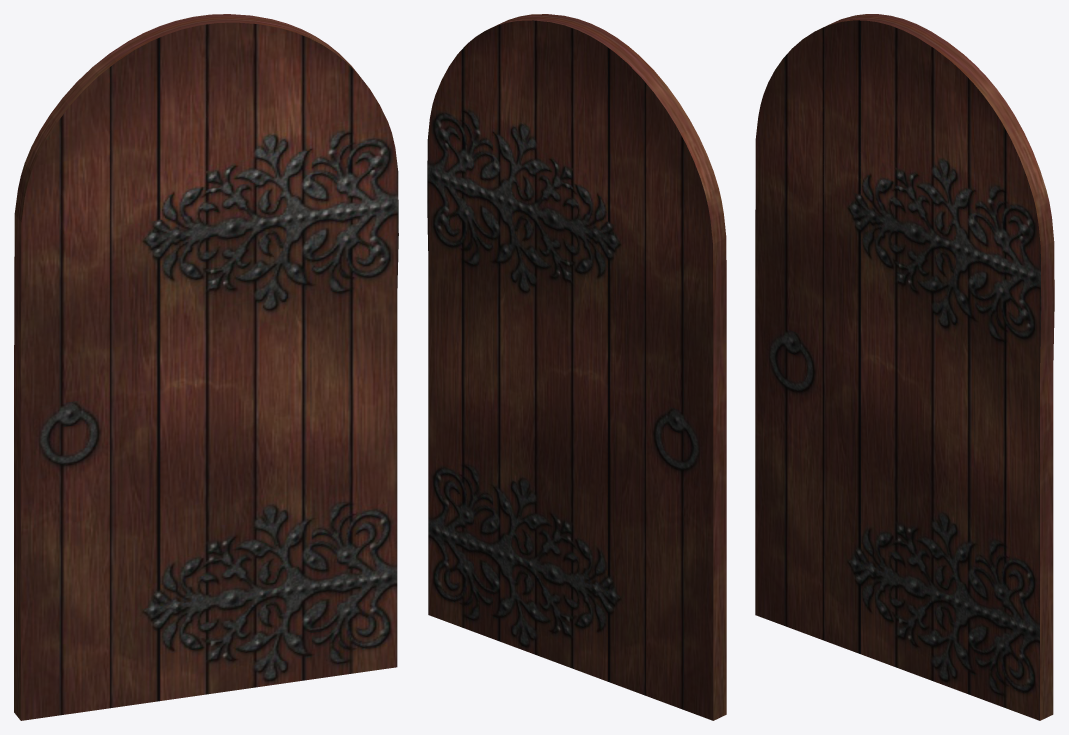
Rendered from door 5.obj.
The picture shows the model from 3 angles, left to right: view 1: azimuth 30°, elevation 25°; view 2: azimuth 150°, elevation 25°; view 3: azimuth 330°, elevation 25°; orthographic projection. The views are drawn at different scales.
Visible parts, largest first — view 1: door_10:Mesh; view 2: door_10:Mesh; view 3: door_10:Mesh.
Part boxes in pixels (x1,y1,x2,y2): door_10:Mesh: (14, 14, 398, 720); door_10:Mesh: (427, 14, 726, 720); door_10:Mesh: (755, 14, 1054, 720).
Bounding box in the file's own units: 64.07 × 120 × 16.09.
Materials: 1 (1 with a texture image).
